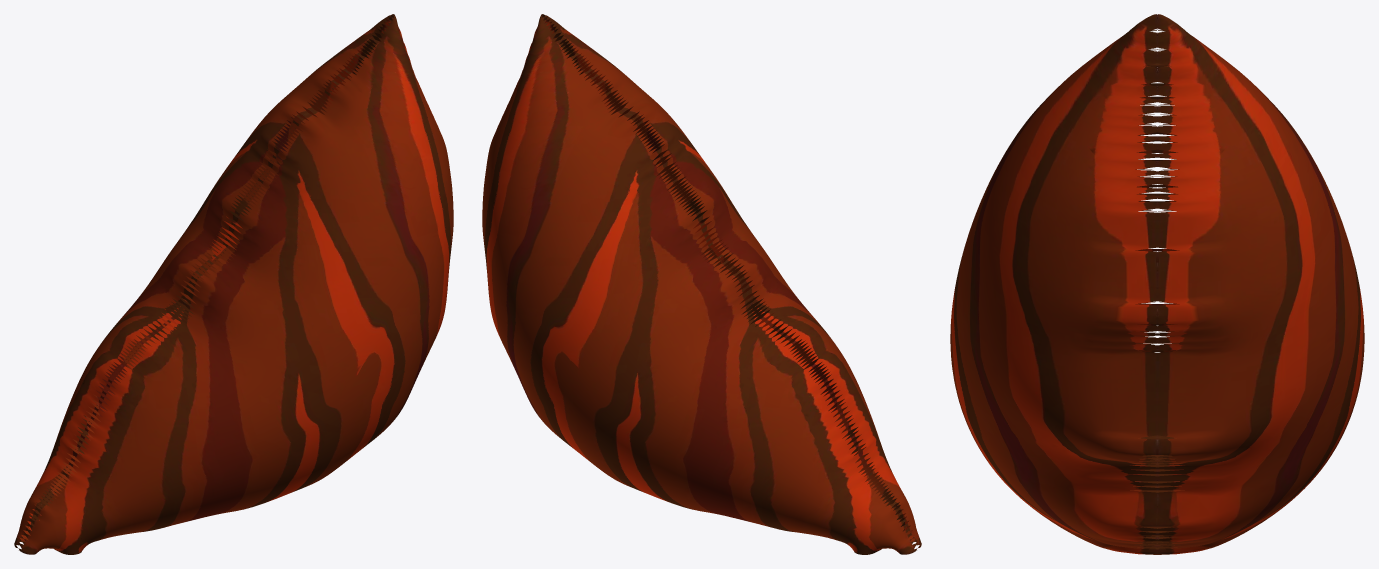
The model's file is ribbed_cliff.glb.
The picture shows the model from 3 angles, left to right: view 1: azimuth 30°, elevation 25°; view 2: azimuth 150°, elevation 25°; view 3: azimuth 270°, elevation 25°; orthographic projection. The views are drawn at different scales.
Parts seen in each view (by area): view 1: ribbed_cliff; view 2: ribbed_cliff; view 3: ribbed_cliff.
Part boxes in pixels (box(x1,y1,x2,y2)): ribbed_cliff: box(14, 14, 453, 554); ribbed_cliff: box(482, 14, 921, 554); ribbed_cliff: box(950, 14, 1364, 554).
Size of the model in its own units: 0.9846 by 1 by 0.5979.
Materials: 1 (1 with a texture image).
